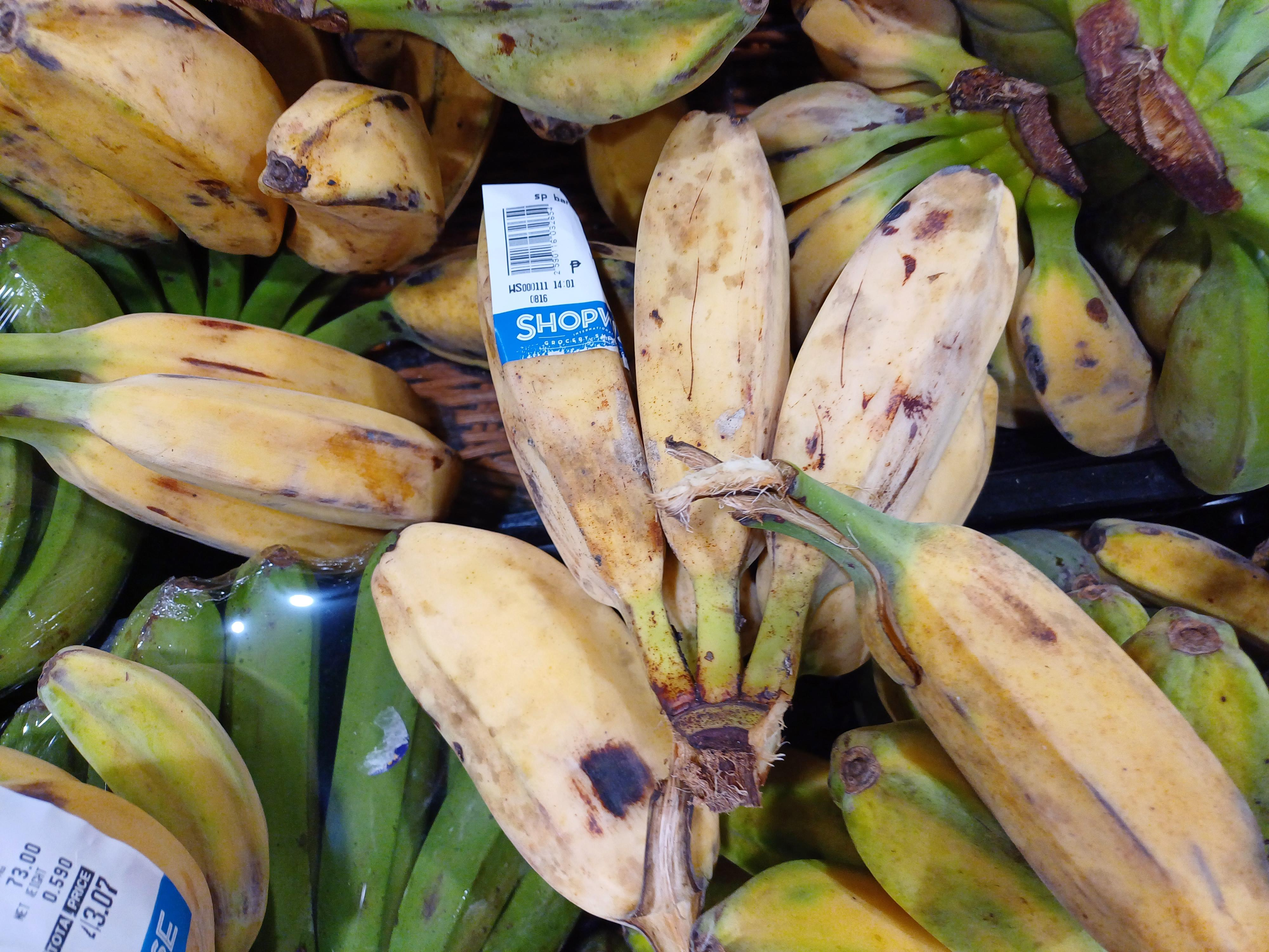ripe: (477, 112, 1018, 615), (0, 0, 500, 273), (43, 314, 461, 560)
